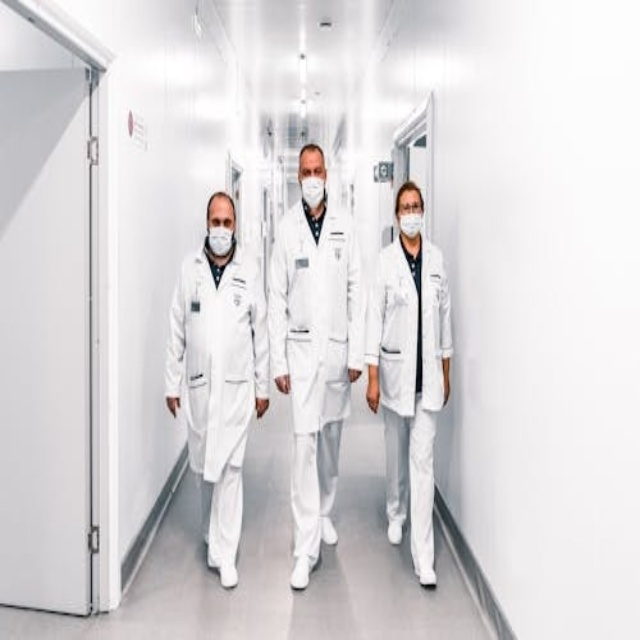Gafas: (399, 203, 422, 213)
Mascara: (207, 226, 234, 256), (301, 175, 325, 207), (399, 212, 424, 238)
Sin_gafas: (209, 209, 236, 231), (300, 160, 325, 183)
Sin_guantes: (364, 381, 381, 417), (271, 371, 289, 402), (439, 369, 453, 406), (164, 390, 178, 419), (251, 394, 266, 421), (349, 365, 361, 382)
